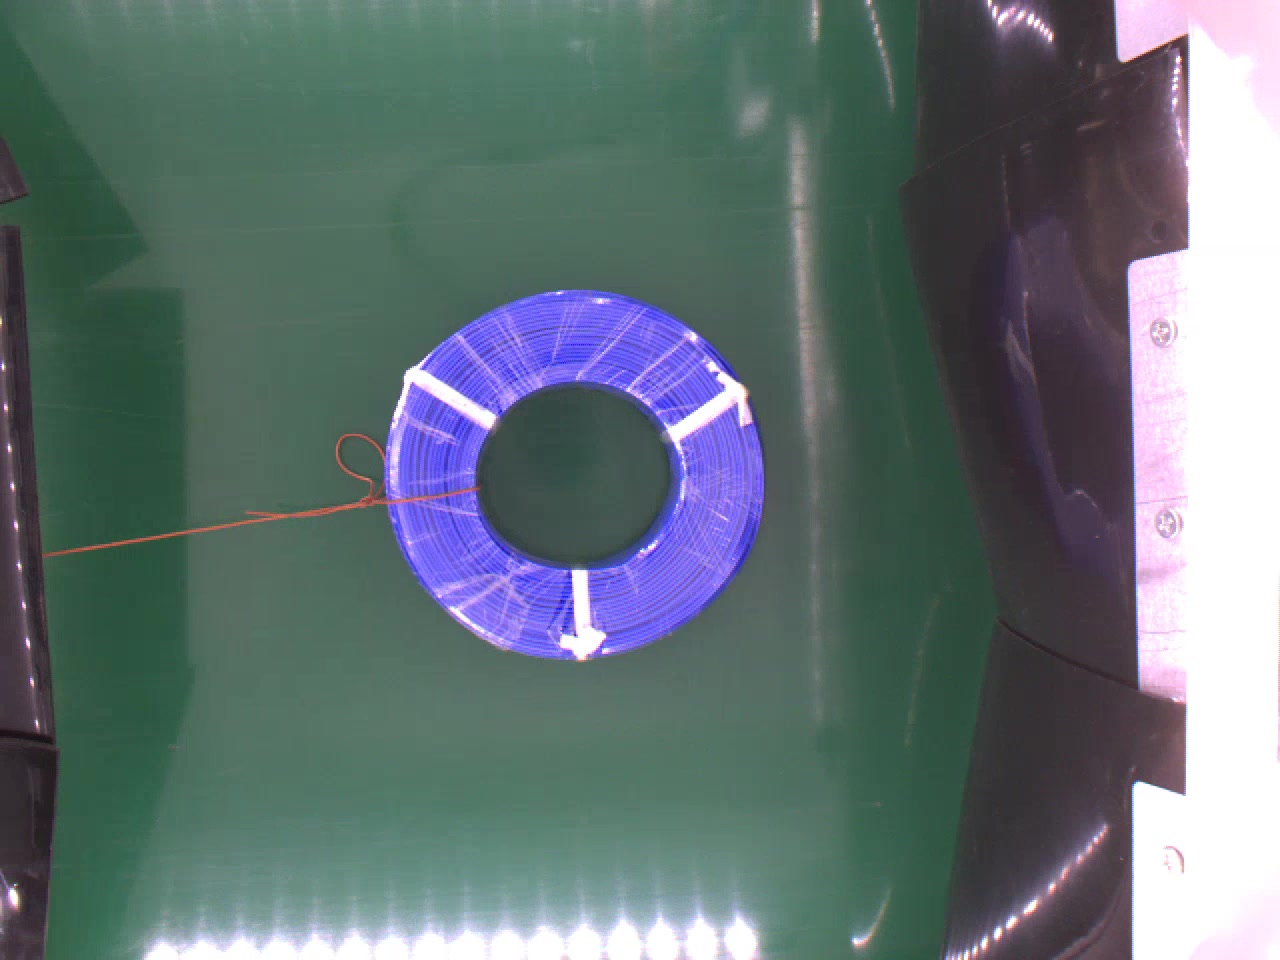blue: (378, 288, 768, 659)
